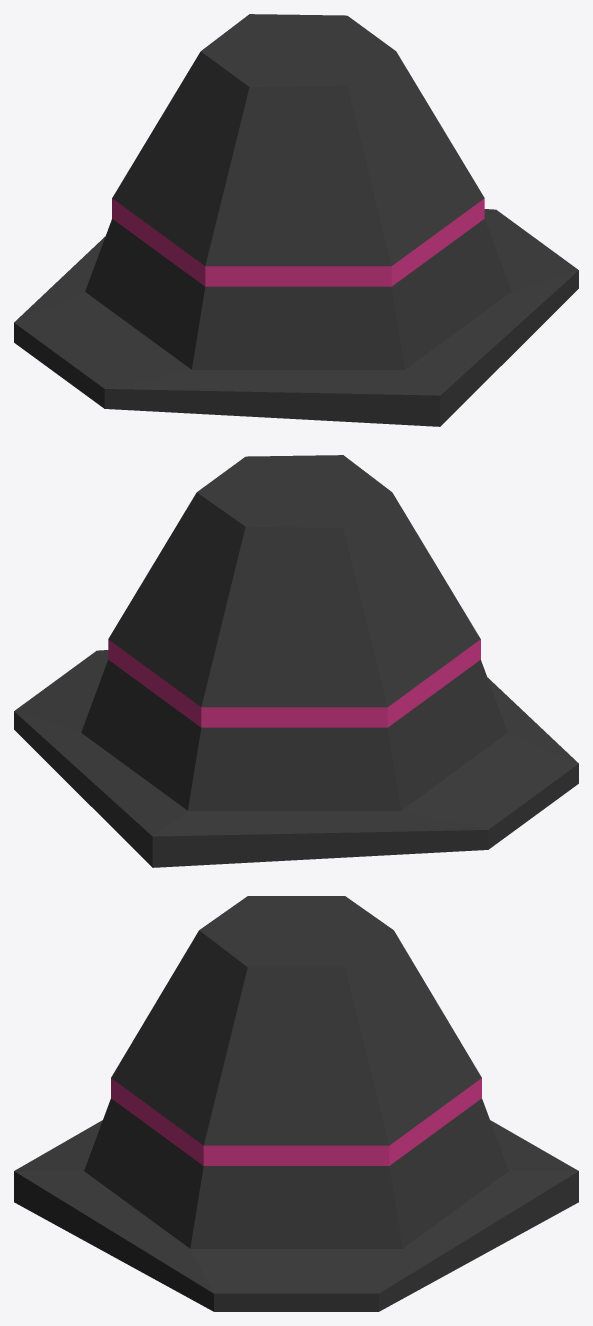
Rendered from Hat.fbx.
3 renders of one model, top to bottom at view 1: azimuth 30°, elevation 25°; view 2: azimuth 150°, elevation 25°; view 3: azimuth 270°, elevation 25°, orthographic.
Parts seen in each view (by area): view 1: Cylinder; view 2: Cylinder; view 3: Cylinder.
Boxes of the visible parts, x1,y1,x2,y2 form: Cylinder: (14, 14, 578, 426); Cylinder: (14, 455, 578, 867); Cylinder: (14, 896, 578, 1311).
Size of the model in its own units: 106 by 57.88 by 109.
